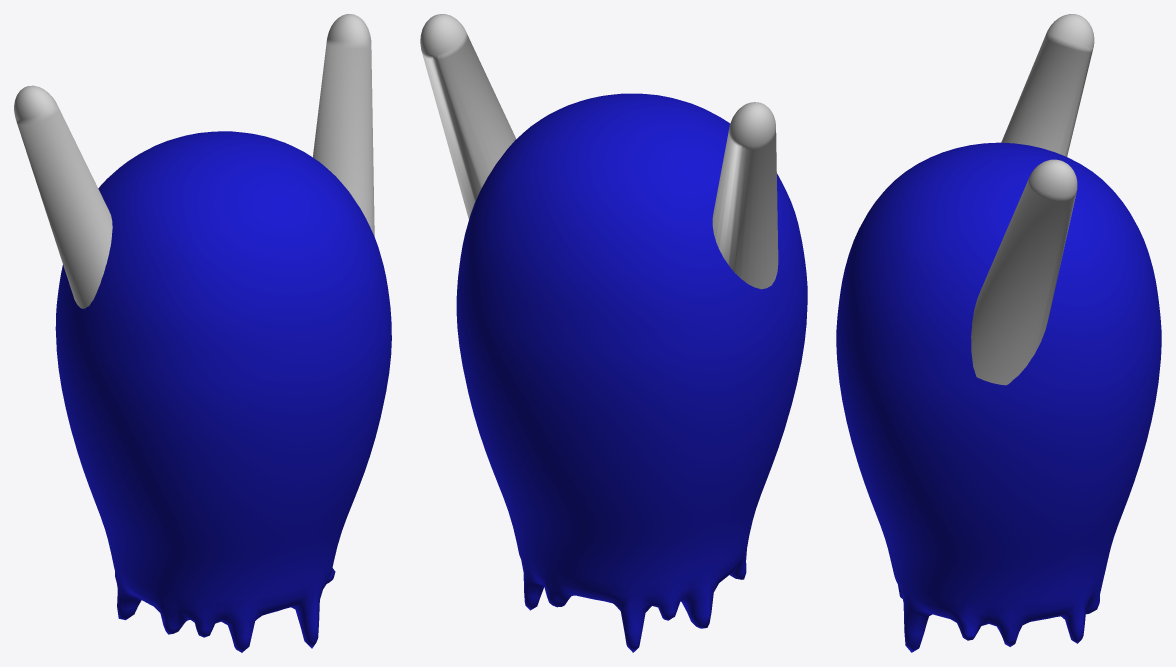
File: beforeThrow_000039.obj
3 views of the same model, side by side, from view 1: azimuth 30°, elevation 25°; view 2: azimuth 150°, elevation 25°; view 3: azimuth 270°, elevation 25° (orthographic). The views are drawn at different scales.
Visible parts, largest first — view 1: Cube, Sphere.001, Sphere; view 2: Cube, Sphere.001, Sphere; view 3: Cube, Sphere, Sphere.001.
Boxes of the visible parts, <box> form: Cube: <box>55,131,391,652</box>; Sphere.001: <box>14,85,112,308</box>; Sphere: <box>313,14,374,236</box>; Cube: <box>456,93,807,652</box>; Sphere.001: <box>712,102,778,289</box>; Sphere: <box>420,14,516,218</box>; Cube: <box>836,142,1161,652</box>; Sphere: <box>971,159,1077,385</box>; Sphere.001: <box>1001,14,1094,156</box>.
Size of the model in its own units: 0.3413 by 0.5287 by 0.2859.
